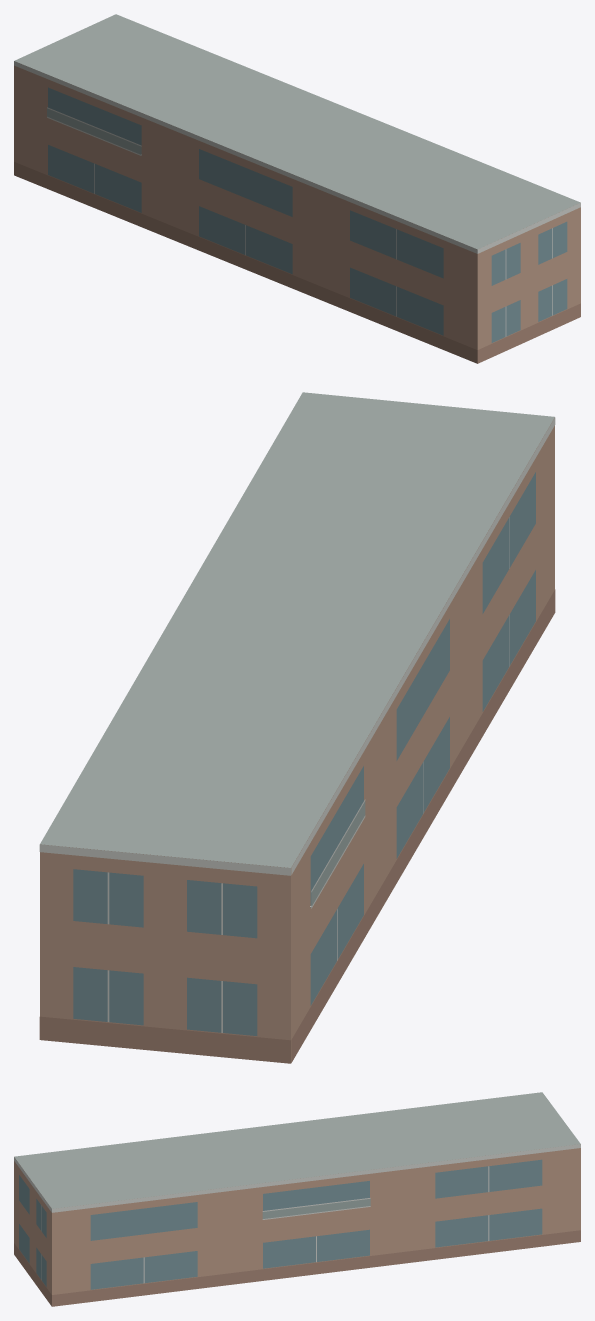
The model's file is survey-upis-32709734.glb.
The picture shows the model from 3 angles, top to bottom: view 1: azimuth 30°, elevation 25°; view 2: azimuth 150°, elevation 25°; view 3: azimuth 270°, elevation 25°; orthographic projection. The views are drawn at different scales.
Parts seen in each view (by area): view 1: survey-upis-32709734.tmp; view 2: survey-upis-32709734.tmp; view 3: survey-upis-32709734.tmp.
Boxes of the visible parts, x1,y1,x2,y2 form: survey-upis-32709734.tmp: [14, 14, 580, 363]; survey-upis-32709734.tmp: [39, 392, 555, 1063]; survey-upis-32709734.tmp: [14, 1092, 580, 1306].
Size of the model in its own units: 15.63 by 6.1 by 32.04.
